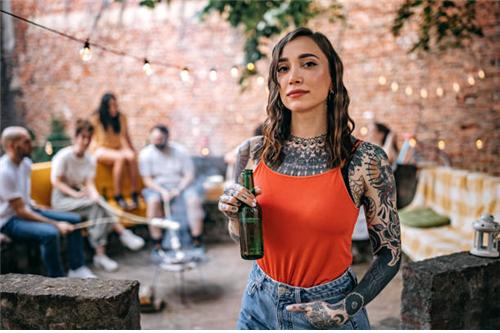alcohol: (238, 170, 263, 261)
